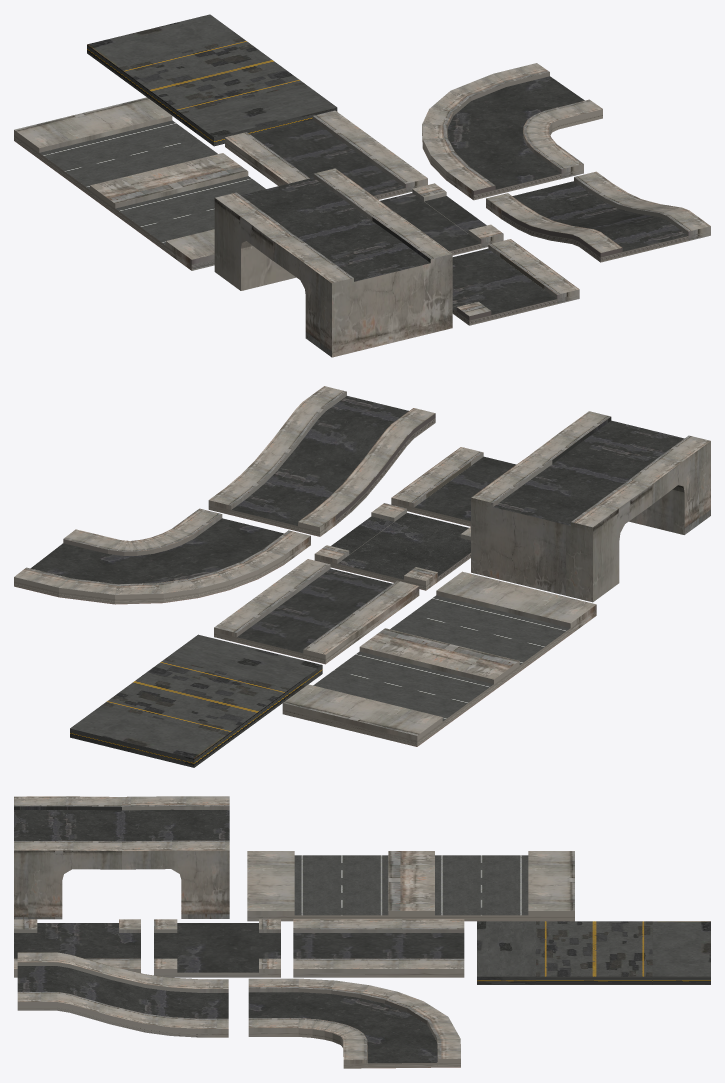
File: vecchio-quartiere.glb
3 views of the same model, one above another, from view 1: azimuth 30°, elevation 25°; view 2: azimuth 150°, elevation 25°; view 3: azimuth 270°, elevation 25° (orthographic). The views are drawn at different scales.
Visible parts, largest first — view 1: Cubo.002, Cubo.001, Cubo.003, Cube.002, Cubo, Cube.003, Cube, Cube.004, Cube.001; view 2: Cubo.002, Cubo, Cubo.003, Cube.003, Cube.002, Cube, Cubo.001, Cube.001, Cube.004; view 3: Cubo.002, Cubo.003, Cube.002, Cube.003, Cubo.001, Cubo, Cube, Cube.001, Cube.004.
Boxes of the visible parts, left/top/right/bottom form: Cubo.002: left=14, top=97, right=265, bottom=270; Cubo.001: left=273, top=211, right=452, bottom=357; Cubo.003: left=87, top=14, right=337, bottom=146; Cube.002: left=422, top=63, right=602, bottom=200; Cubo: left=214, top=168, right=393, bottom=290; Cube.003: left=486, top=171, right=710, bottom=262; Cube: left=225, top=110, right=427, bottom=199; Cube.004: left=452, top=239, right=579, bottom=325; Cube.001: left=380, top=183, right=503, bottom=255; Cubo.002: left=282, top=571, right=596, bottom=746; Cubo: left=471, top=455, right=652, bottom=602; Cubo.003: left=70, top=634, right=322, bottom=767; Cube.003: left=208, top=386, right=435, bottom=536; Cube.002: left=14, top=508, right=310, bottom=604; Cube: left=214, top=559, right=419, bottom=664; Cubo.001: left=530, top=411, right=710, bottom=534; Cube.001: left=314, top=503, right=470, bottom=590; Cube.004: left=391, top=447, right=516, bottom=526; Cubo.002: left=247, top=851, right=574, bottom=921; Cubo.003: left=477, top=921, right=710, bottom=984; Cube.002: left=248, top=978, right=460, bottom=1068; Cube.003: left=17, top=952, right=228, bottom=1037; Cubo.001: left=14, top=796, right=121, bottom=919; Cubo: left=122, top=796, right=229, bottom=918; Cube: left=293, top=919, right=464, bottom=977; Cube.001: left=154, top=919, right=280, bottom=977; Cube.004: left=14, top=919, right=140, bottom=977.
Size of the model in its own units: 42.24 by 6.93 by 59.72.
Materials: 5 (5 with a texture image).
